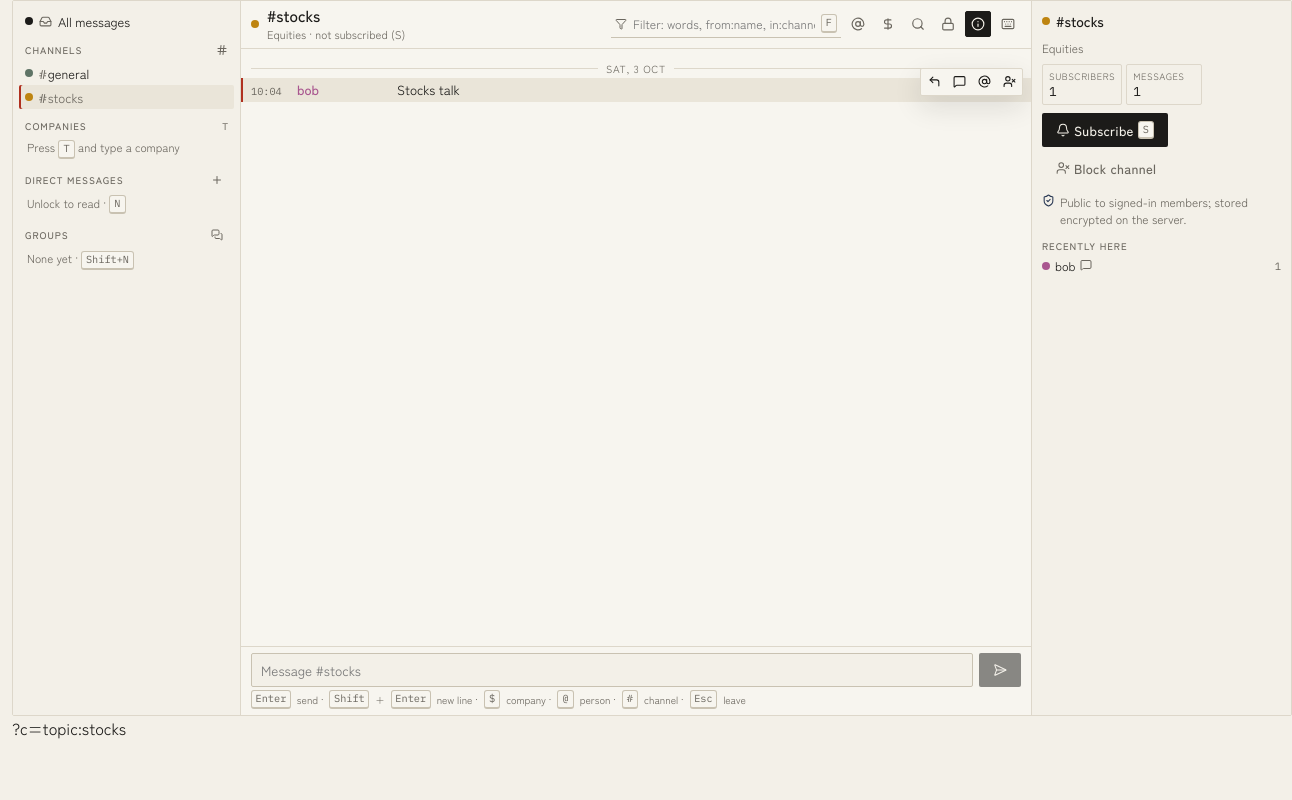
Test: ChatPage › sends with Enter from the composer and shows the message
Check: the text "Stocks talk" is shown, box left=397, top=80, right=460, bottom=99
Press Enter
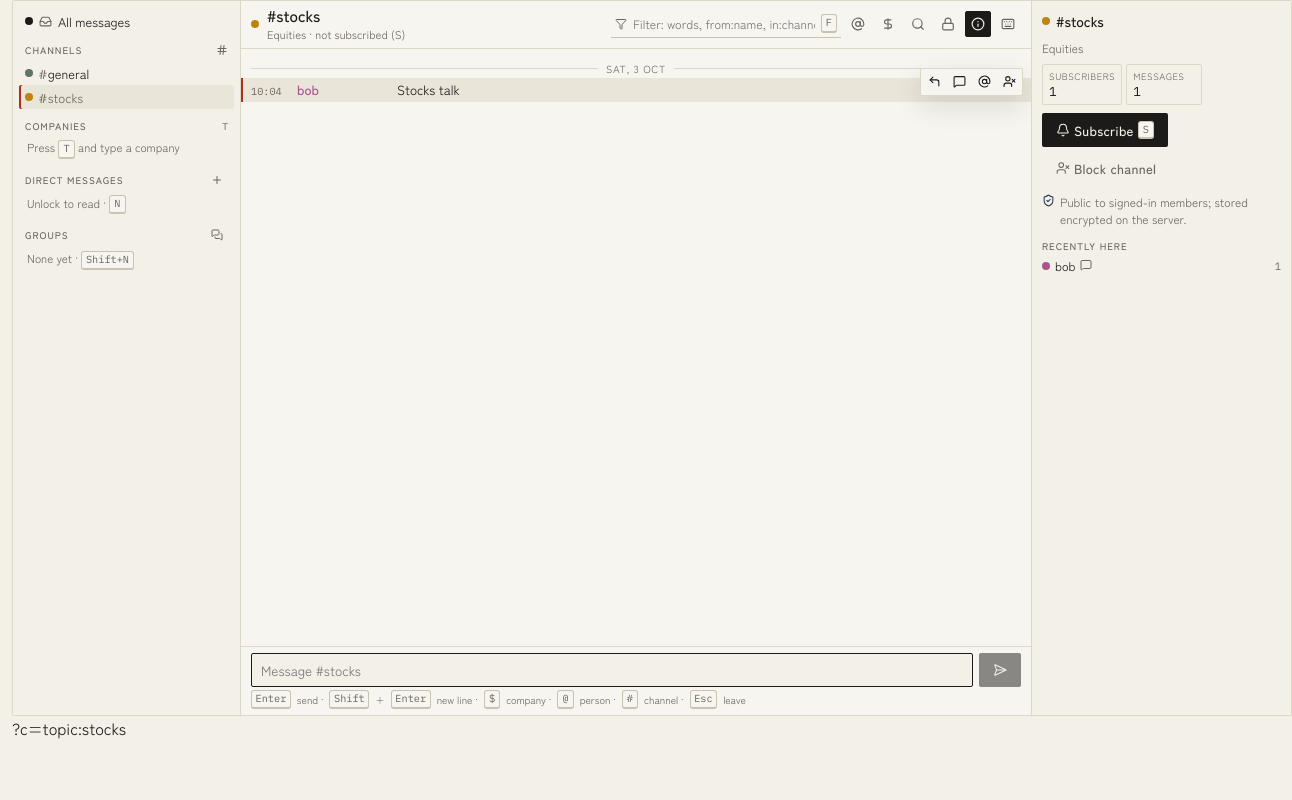
Type "Buying more" into the text box labelled "Message" at [612, 670], box left=251, top=653, right=973, bottom=687
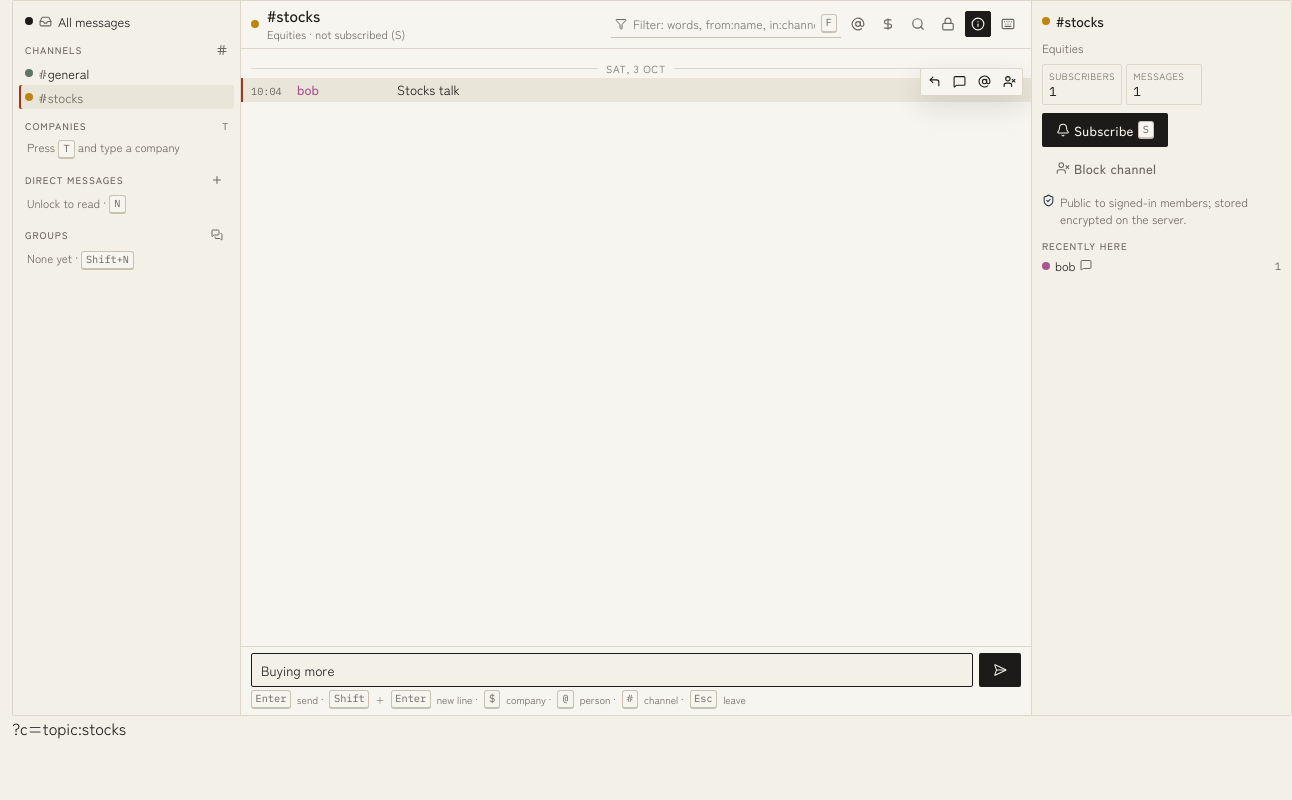
Press Enter in the text box named "Message", box left=251, top=653, right=973, bottom=687
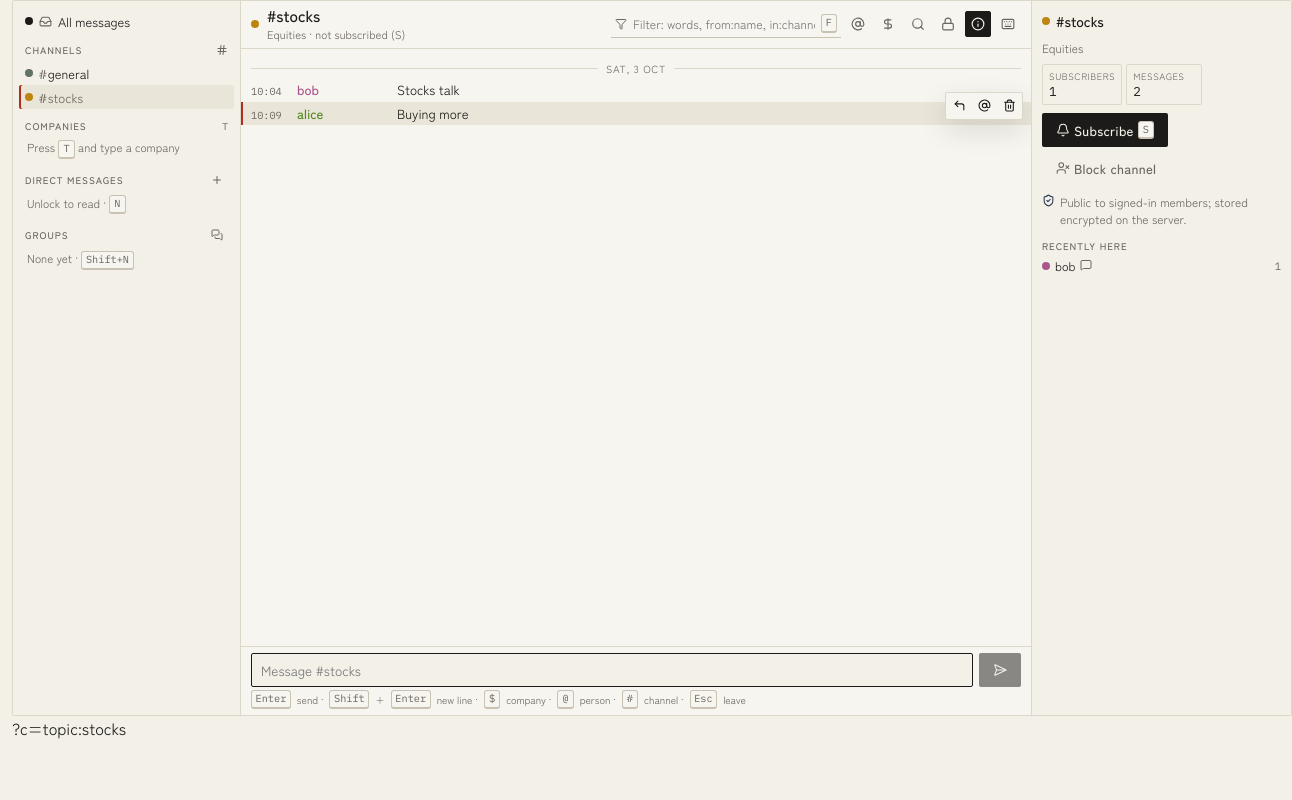
Check: the text "Buying more" is shown, box left=397, top=104, right=469, bottom=123
Check: the text box "Buying more" is empty, box left=251, top=653, right=973, bottom=687
